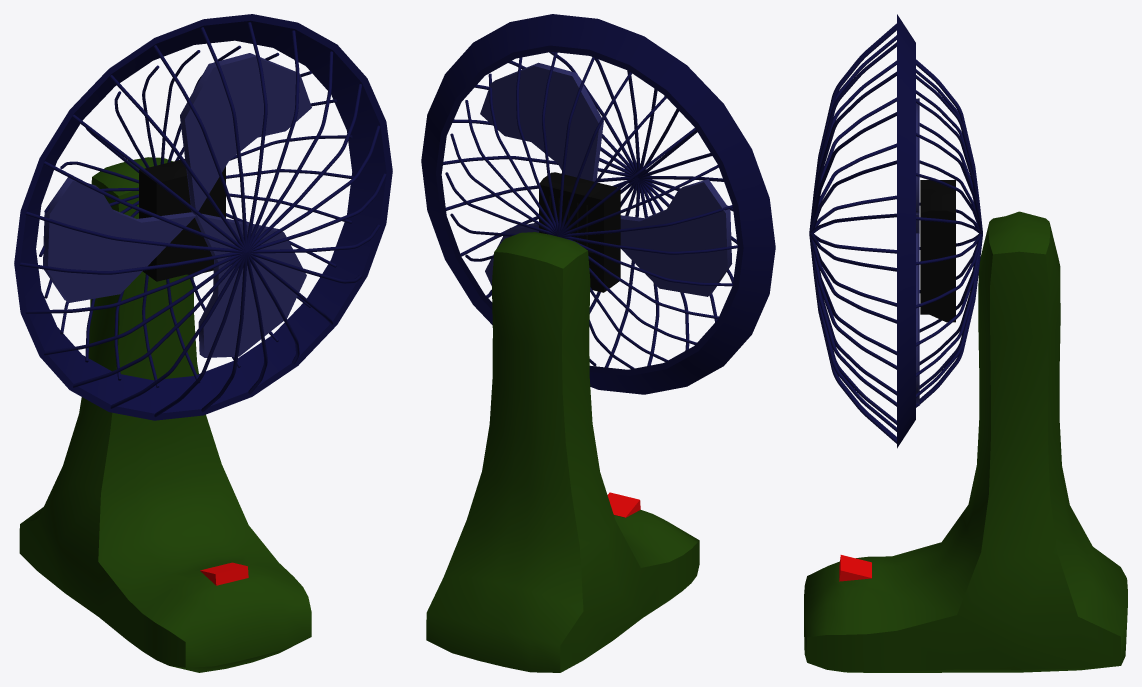
Rendered from fan.FBX.
The picture shows the model from 3 angles, left to right: view 1: azimuth 30°, elevation 25°; view 2: azimuth 150°, elevation 25°; view 3: azimuth 270°, elevation 25°; orthographic projection. The views are drawn at different scales.
Parts seen in each view (by area): view 1: fan_body, fan_head, propeller, Box, switch; view 2: fan_body, fan_head, propeller, Box, switch; view 3: fan_body, fan_head, Box, propeller, switch.
Boxes of the visible parts, box(x1,y1,x2,y2) form: fan_body: box(19, 157, 311, 672); fan_head: box(14, 14, 392, 420); propeller: box(43, 53, 311, 357); Box: box(139, 159, 225, 281); switch: box(200, 562, 248, 585); fan_body: box(426, 232, 699, 672); fan_head: box(421, 14, 775, 394); propeller: box(480, 62, 732, 296); Box: box(539, 172, 620, 292); switch: box(607, 492, 640, 517); fan_body: box(804, 211, 1127, 672); fan_head: box(809, 14, 982, 448); Box: box(920, 180, 955, 322); propeller: box(916, 98, 919, 405); switch: box(839, 555, 871, 581).
Bounding box in the file's own units: 180 × 283 × 134.
